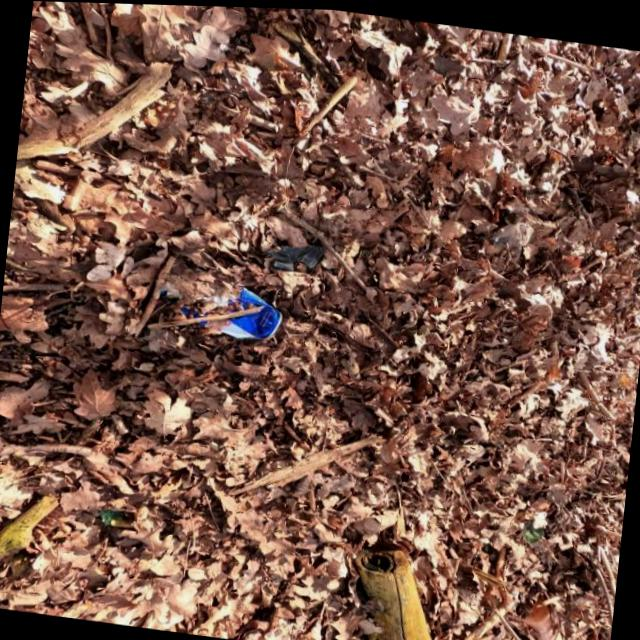Can-Metal: (156, 273, 285, 345)
